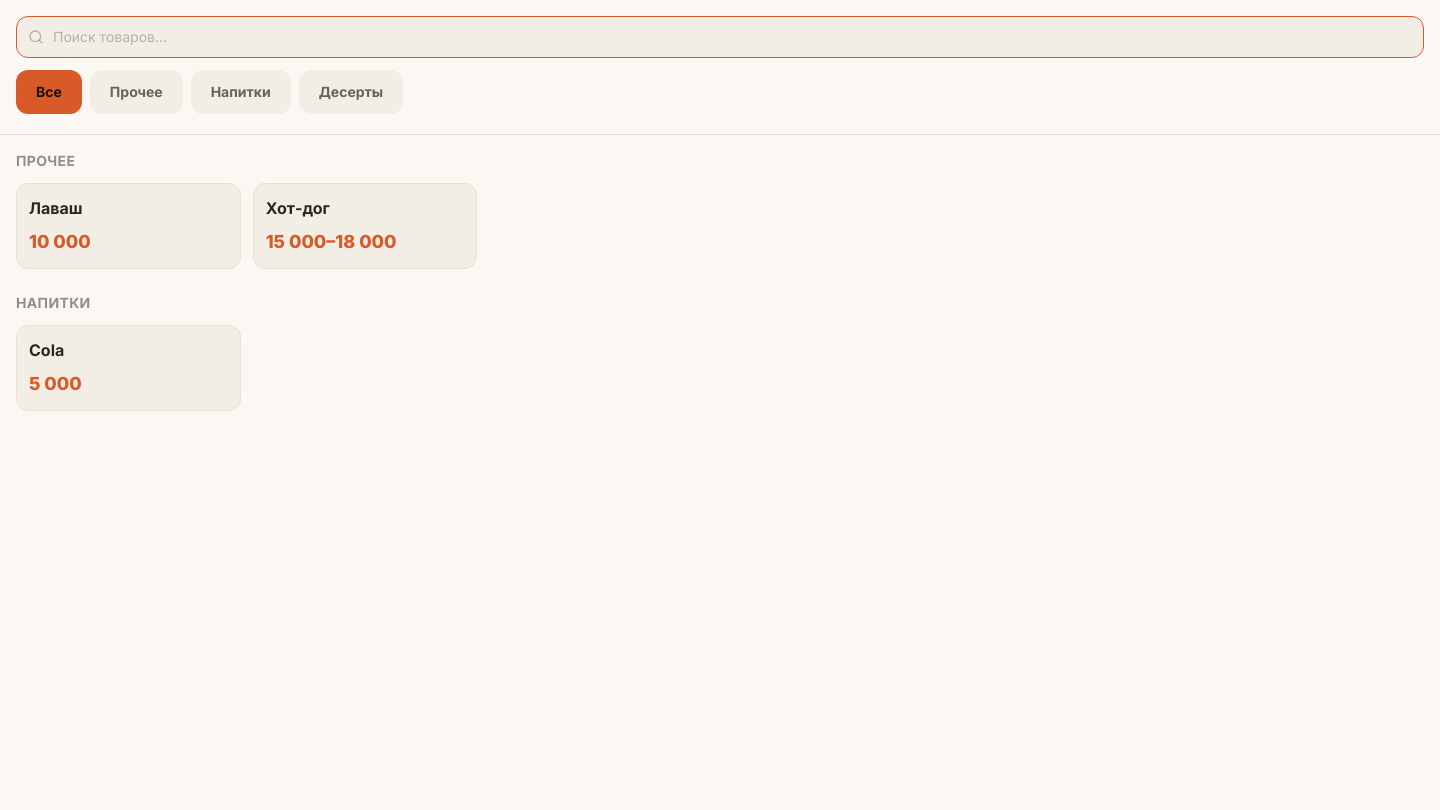
Test case: PosMenu — Cashier multi-variant UX › selecting a variant adds the correct variantId/price/name and closes the picker
Step 1. Click the button "Хот-дог 15 000–18 000" → (365, 226), box 253,183 -> 477,269
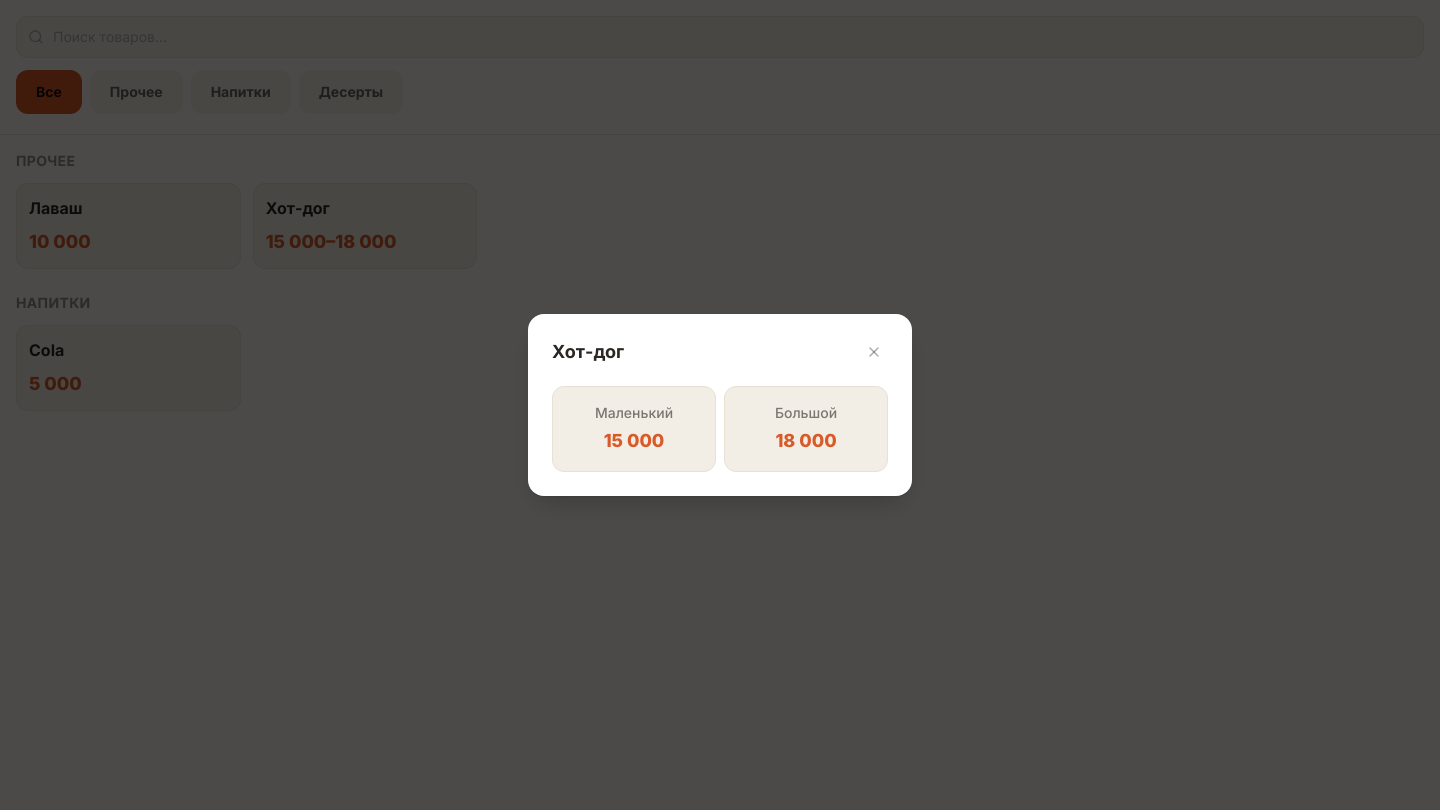
Step 2. Click the text "Большой" → (806, 412), box 775,404 -> 837,421
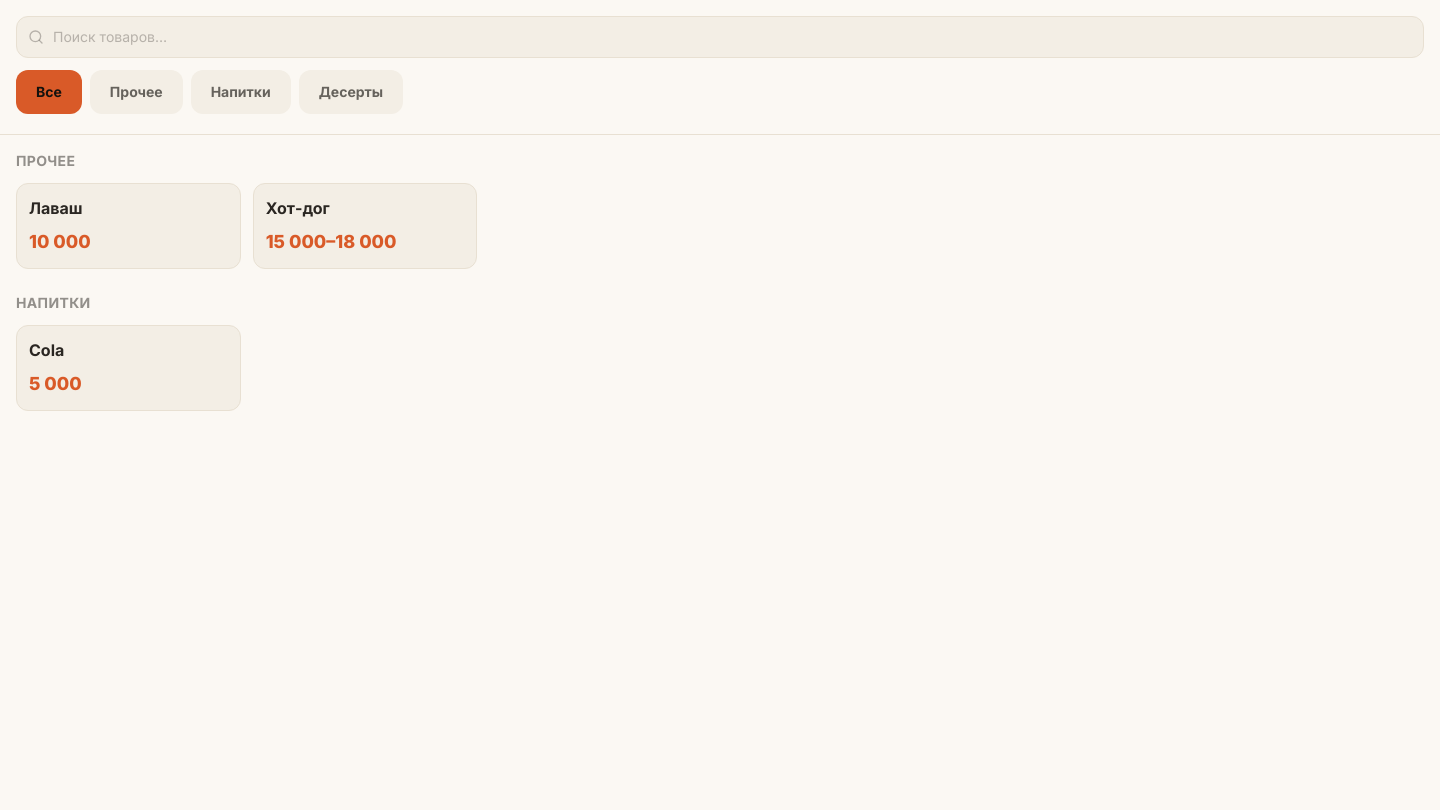
Expected: the dialog is gone
